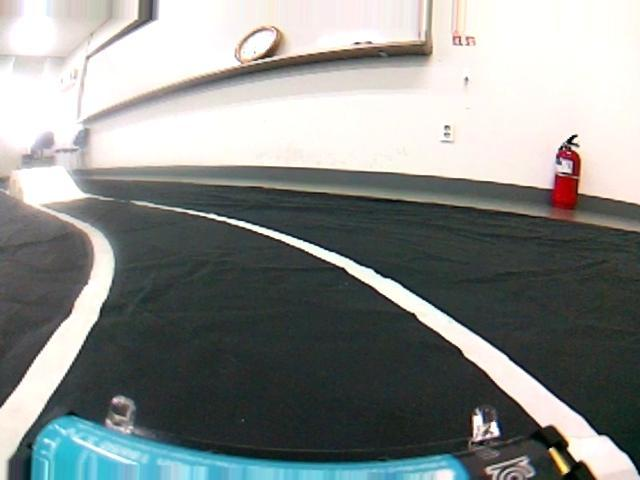straight: (6, 235, 640, 475)
